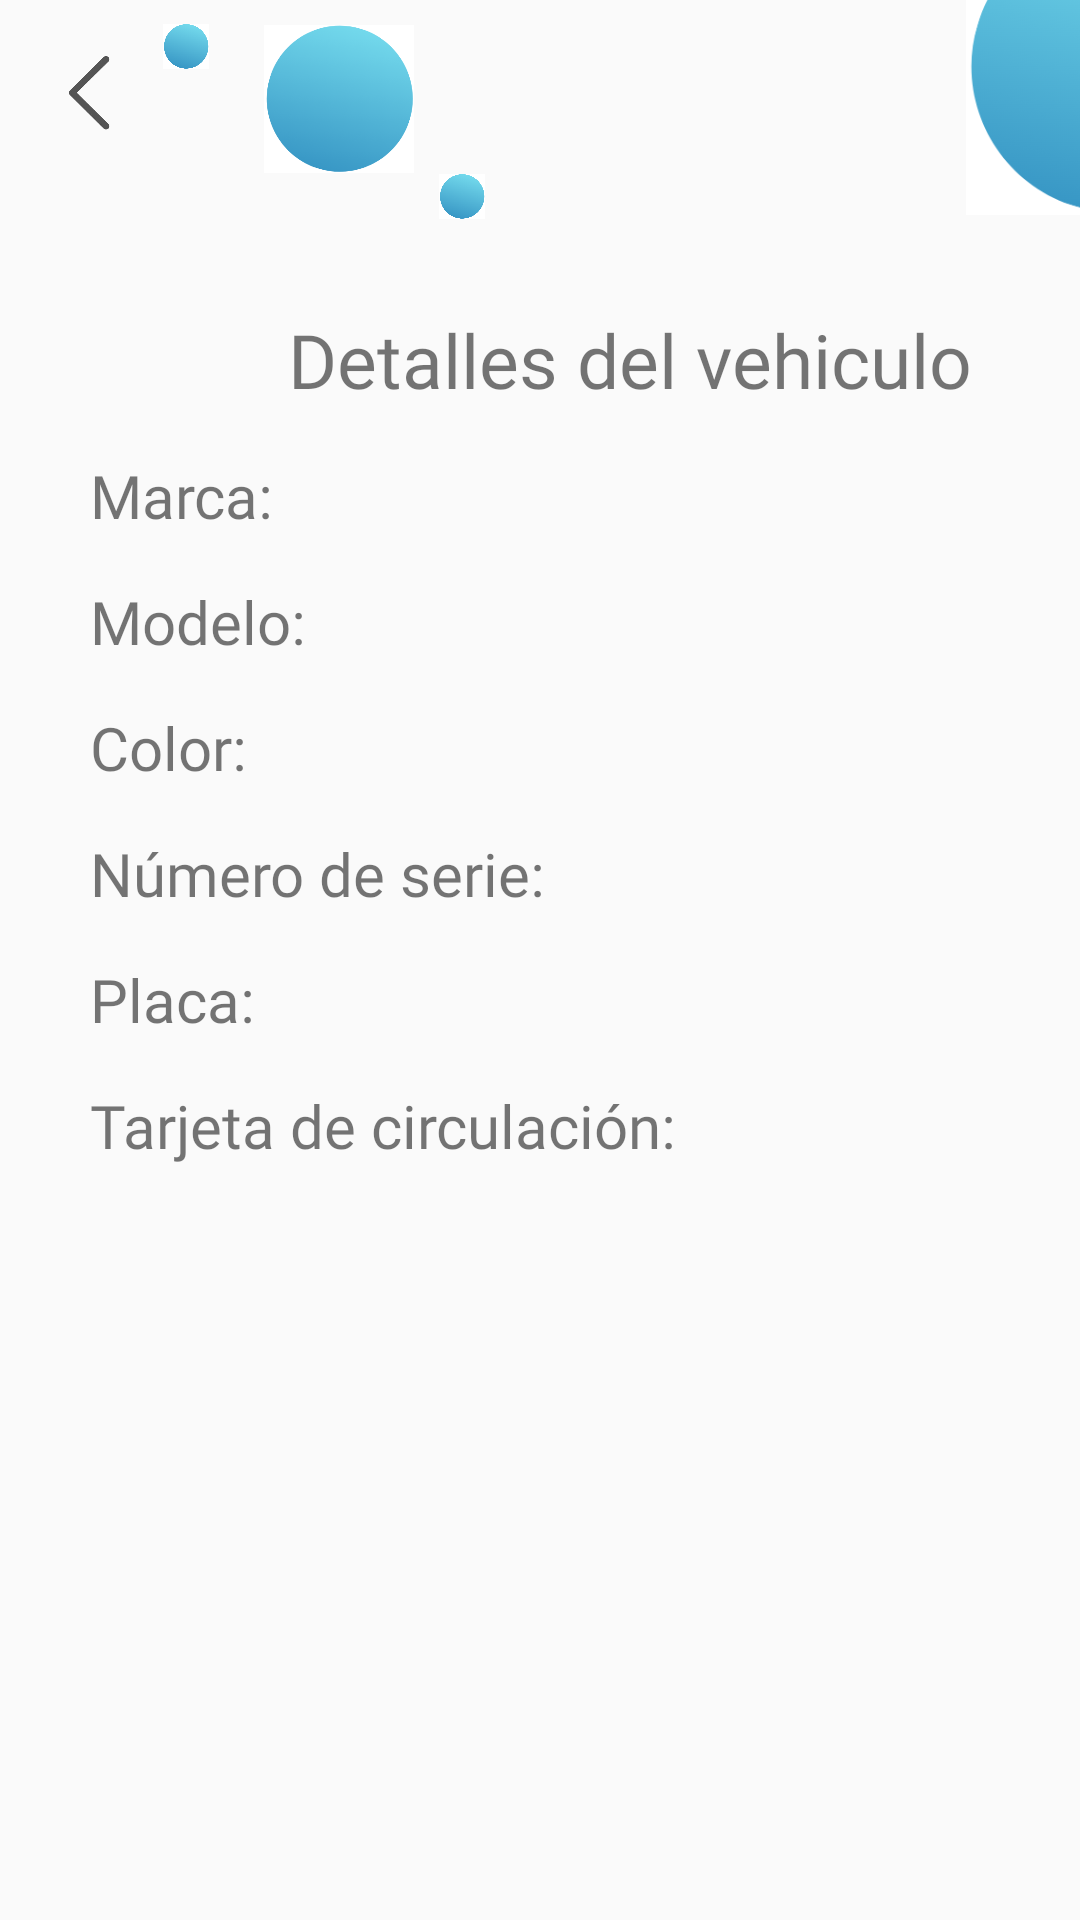

Named icons in this screenshot (1080w x 1920h) and their centers, [x,y]:
back arrow: [89,93]
